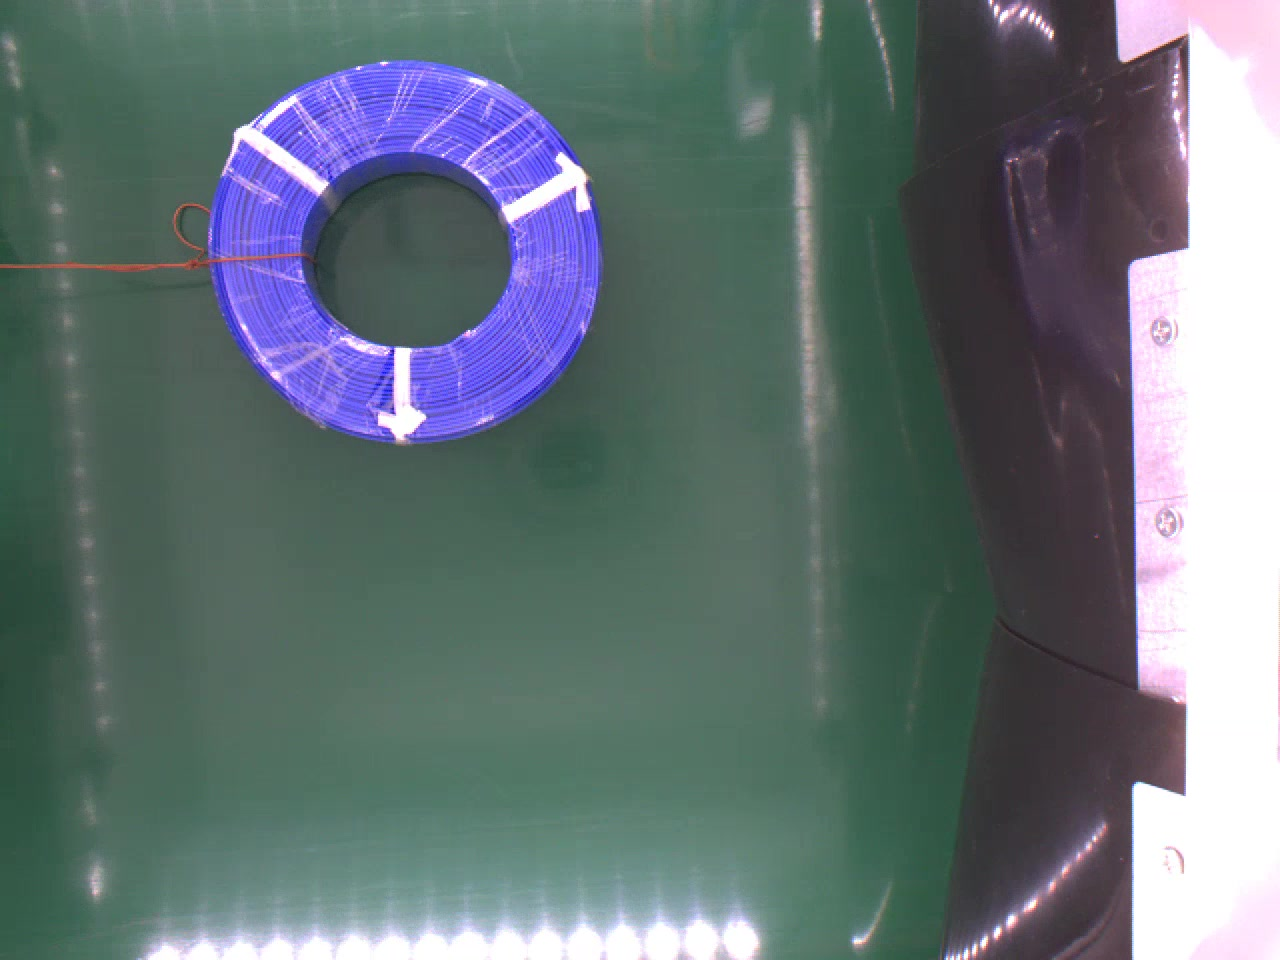blue: (209, 54, 607, 450)
